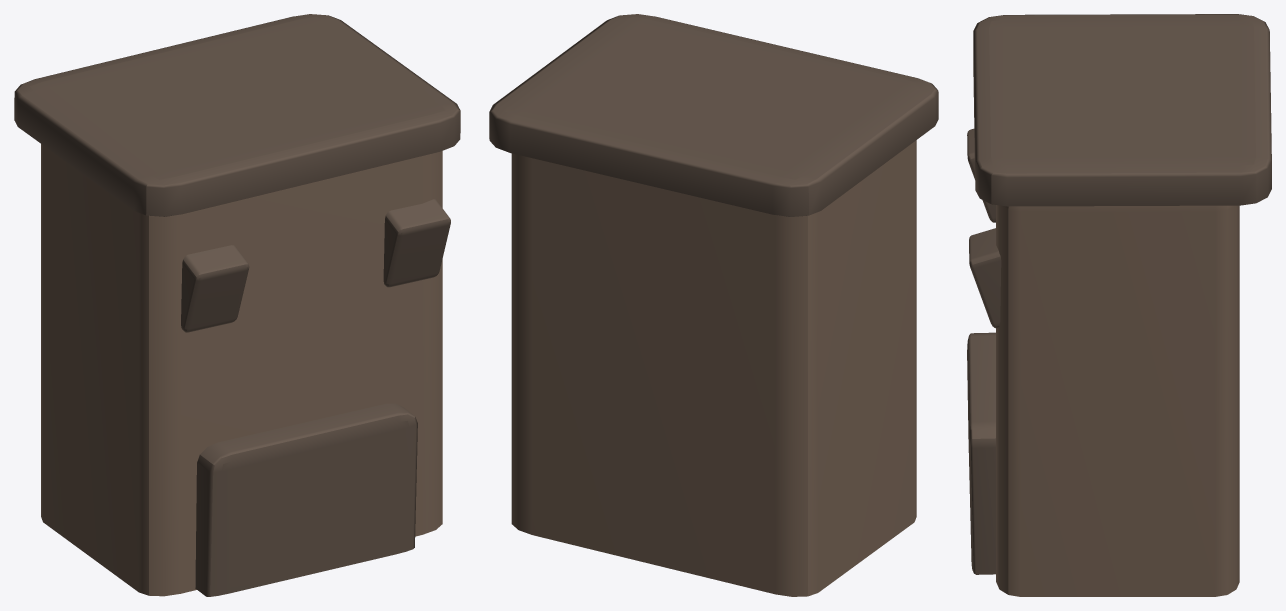
3 views of the same model, side by side, from view 1: azimuth 30°, elevation 25°; view 2: azimuth 150°, elevation 25°; view 3: azimuth 270°, elevation 25° (orthographic).
Visible parts, largest first — view 1: pCube61; view 2: pCube61; view 3: pCube61.
Part boxes in pixels (x1,y1,x2,y2): pCube61: (14, 14, 460, 596); pCube61: (489, 14, 938, 596); pCube61: (967, 14, 1271, 596).
Bounding box in the file's own units: 71.79 × 89.28 × 57.22.
